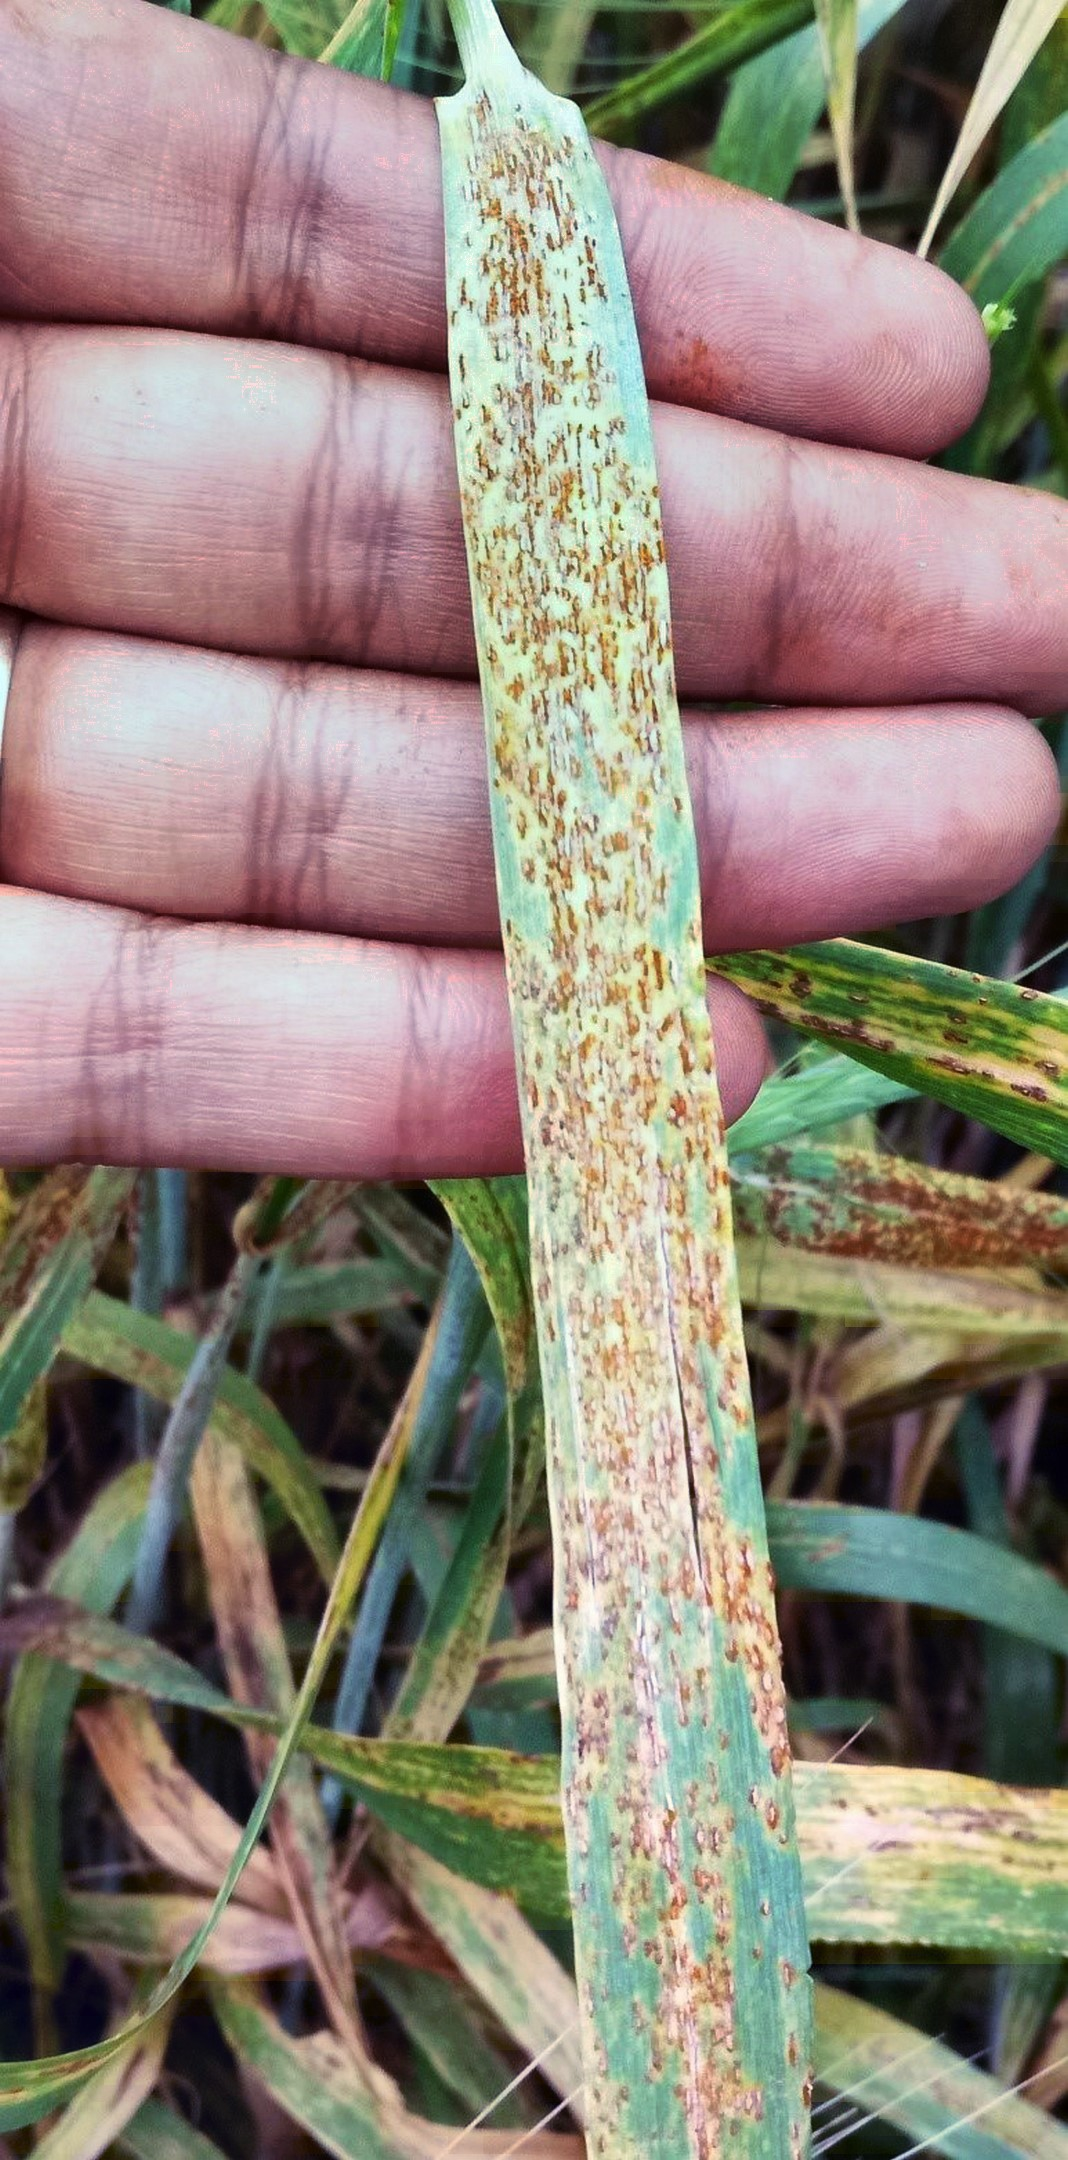Leaf Rust: (411, 176, 849, 2031)
